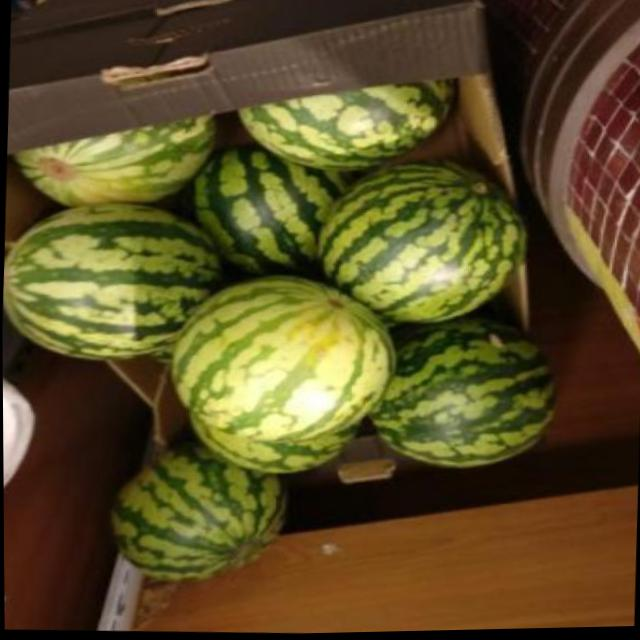Watermelon: (307, 168, 524, 341), (172, 275, 388, 442), (1, 195, 206, 367), (363, 311, 575, 469), (95, 446, 281, 599)
